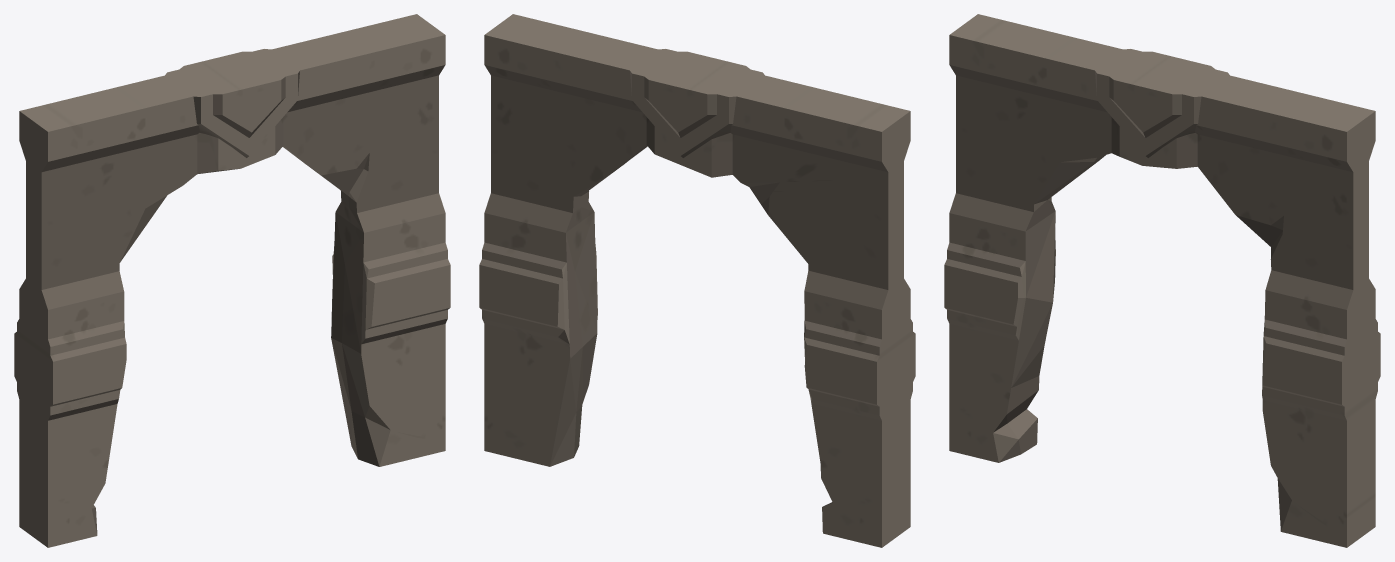
Rendered from wall_broken.glb.
The picture shows the model from 3 angles, left to right: view 1: azimuth 30°, elevation 25°; view 2: azimuth 150°, elevation 25°; view 3: azimuth 330°, elevation 25°; orthographic projection.
Visible parts, largest first — view 1: SM_Env_Dwarf_Wall_Broken_01; view 2: SM_Env_Dwarf_Wall_Broken_01; view 3: SM_Env_Dwarf_Wall_Broken_01.
Boxes of the visible parts, x1,y1,x2,y2 form: SM_Env_Dwarf_Wall_Broken_01: (14, 14, 450, 547); SM_Env_Dwarf_Wall_Broken_01: (479, 14, 915, 547); SM_Env_Dwarf_Wall_Broken_01: (944, 14, 1380, 547).
Size of the model in its own units: 5 by 5 by 0.8432.
Materials: 1 (1 with a texture image).
